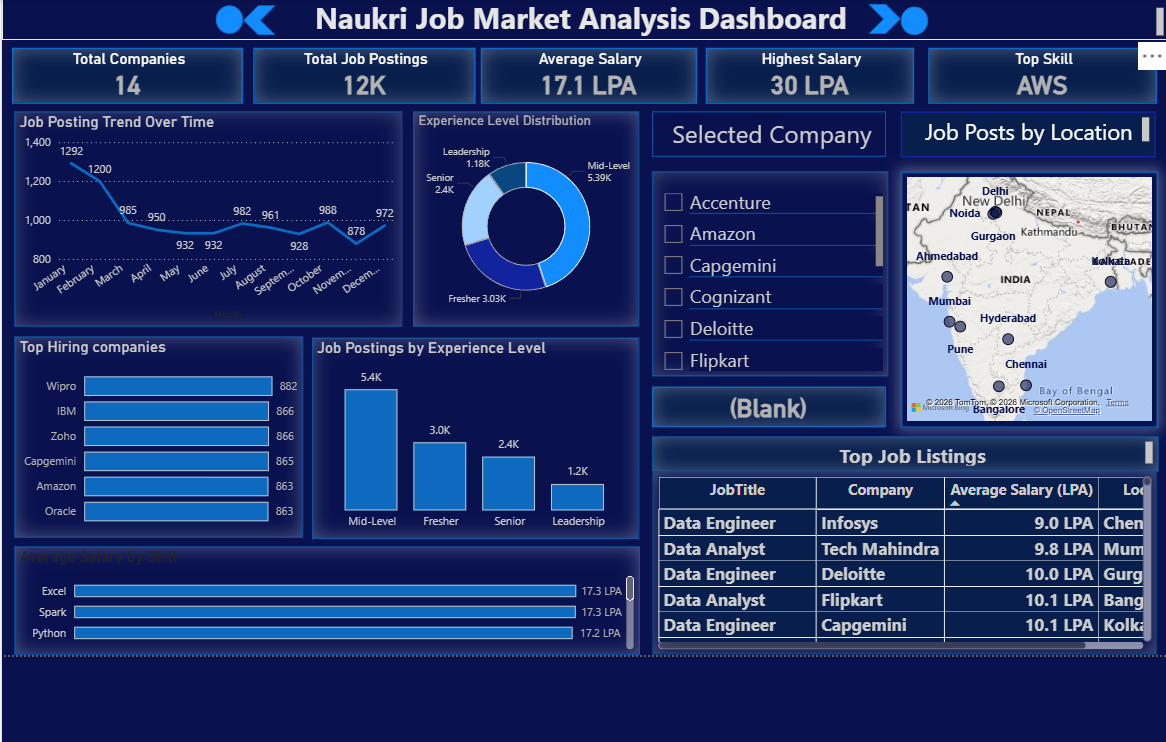

Layout of this report page (visuals, bound fields, positions):
{"tool":"powerbi","page":{"name":"Page 1","canvas":[1280,720],"ordinal":0},"visuals":[{"type":"card","title":"Total Job Postings","fields":{"Values":["naukridata.Total Jobs"]},"box":[275.8,53.5,244.3,61.7],"z":0},{"type":"donutChart","title":"Experience Level Distribution","fields":{"Category":["naukridata.ExperienceLevel"],"Y":["CountNonNull(naukridata.JobID)"]},"box":[451.5,123.5,248.4,236],"z":1000},{"type":"tableEx","fields":{"Values":["naukridata.JobTitle","naukridata.Company","Avg(naukridata.Salary_LPA)","naukridata.Location"]},"box":[713.6,518.7,554.4,201.7],"z":2000},{"type":"textbox","box":[987.1,122.9,280,50],"z":3000},{"type":"map","fields":{"Category":["naukridata.Location"],"Size":["CountNonNull(naukridata.JobID)"]},"box":[986.6,189.4,282.7,281.3],"z":4000},{"type":"textbox","box":[713.6,480.3,555.7,38.4],"z":5000},{"type":"card","title":"Total Job Postings","fields":{"Values":["naukridata.Selected location"]},"box":[713.3,425,256.7,45],"z":6000},{"type":"clusteredBarChart","title":"Average Salary by Skill","fields":{"Category":["naukridata.Skill"],"Y":["Avg(naukridata.Salary_LPA)"]},"box":[13.7,601,686.1,119.4],"z":7000},{"type":"clusteredBarChart","title":"Top Hiring companies","fields":{"Category":["naukridata.Company"],"Y":["CountNonNull(naukridata.JobTitle)"]},"box":[13.7,370.5,317,220.9],"z":8000},{"type":"clusteredColumnChart","title":"Job Postings by Experience Level","fields":{"Category":["naukridata.ExperienceLevel"],"Y":["CountNonNull(naukridata.JobTitle)"]},"box":[340.3,371.9,359.5,220.9],"z":9000},{"type":"lineChart","title":"Job Posting Trend Over Time","fields":{"Category":["naukridata.PostedDate.Variation.Date Hierarchy.Year","naukridata.PostedDate.Variation.Date Hierarchy.Quarter","naukridata.PostedDate.Variation.Date Hierarchy.Month","naukridata.PostedDate.Variation.Date Hierarchy.Day"],"Y":["CountNonNull(naukridata.JobTitle)"]},"box":[13.7,123.5,425.4,236],"z":10000},{"type":"card","title":"Total Companies","fields":{"Values":["naukridata.Total Companies"]},"box":[11,53.5,253.9,61.7],"z":11000},{"type":"card","title":"Average Salary","fields":{"Values":["naukridata.Avg Salary"]},"box":[525.6,53.5,237.4,61.7],"z":12000},{"type":"card","title":"Highest Salary","fields":{"Values":["naukridata.Highest salary"]},"box":[772.6,53.5,229.2,61.7],"z":13000},{"type":"card","title":"Top Skill","fields":{"Values":["naukridata.Top Skill"]},"box":[1016.8,53.5,251.1,61.7],"z":14000},{"type":"textbox","box":[0,0,1280,45.7],"z":15000},{"type":"shape","box":[951.4,5.7,35.7,32.9],"z":16000},{"type":"shape","box":[264.3,7.1,35.7,32.9],"z":17000},{"type":"shape","box":[987.1,8.6,30,31.4],"z":18000},{"type":"shape","box":[234.3,7.1,30,31.4],"z":19000},{"type":"slicer","fields":{"Values":["naukridata.Company"]},"box":[709.4,189.4,259.3,225],"z":20000},{"type":"textbox","box":[713.6,123.5,256.6,49.4],"z":21000}]}

Visuals, with their boxes on the page's 1280x720 design canvas (x1, y1, x2, y2). These are canvas units, not pixel positions in the 1166x742 screenshot, which may show the page scaled, cropped or inside an application window:
"Total Job Postings" card: box(276, 54, 520, 115)
"Experience Level Distribution" donutChart: box(452, 124, 700, 360)
tableEx - naukridata.JobTitle x naukridata.Company: box(714, 519, 1268, 720)
textbox: box(987, 123, 1267, 173)
map - naukridata.Location x CountNonNull(naukridata.JobID): box(987, 189, 1269, 471)
textbox: box(714, 480, 1269, 519)
"Total Job Postings" card: box(713, 425, 970, 470)
"Average Salary by Skill" clusteredBarChart: box(14, 601, 700, 720)
"Top Hiring companies" clusteredBarChart: box(14, 370, 331, 591)
"Job Postings by Experience Level" clusteredColumnChart: box(340, 372, 700, 593)
"Job Posting Trend Over Time" lineChart: box(14, 124, 439, 360)
"Total Companies" card: box(11, 54, 265, 115)
"Average Salary" card: box(526, 54, 763, 115)
"Highest Salary" card: box(773, 54, 1002, 115)
"Top Skill" card: box(1017, 54, 1268, 115)
textbox: box(0, 0, 1280, 46)
shape: box(951, 6, 987, 39)
shape: box(264, 7, 300, 40)
shape: box(987, 9, 1017, 40)
shape: box(234, 7, 264, 38)
slicer - naukridata.Company: box(709, 189, 969, 414)
textbox: box(714, 124, 970, 173)
